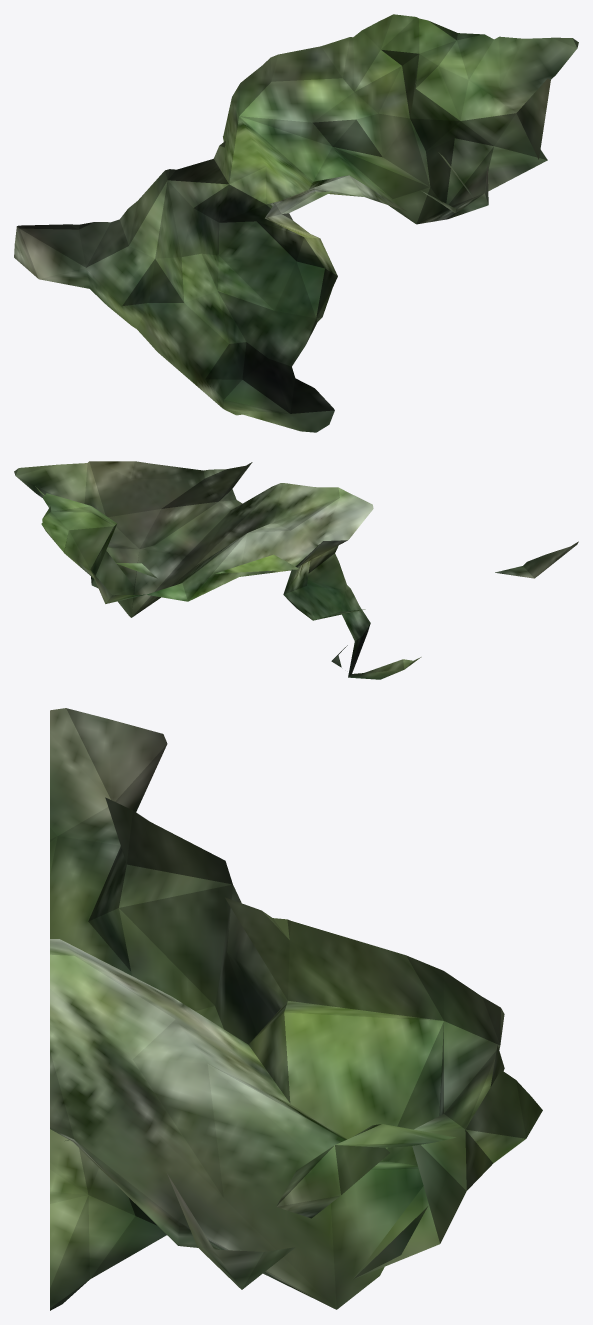
The picture shows the model from 3 angles, top to bottom: view 1: azimuth 30°, elevation 25°; view 2: azimuth 150°, elevation 25°; view 3: azimuth 270°, elevation 25°; orthographic projection. The views are drawn at different scales.
Bounding box in the file's own units: 24.82 × 8.96 × 10.63.
Materials: 1 (1 with a texture image).
